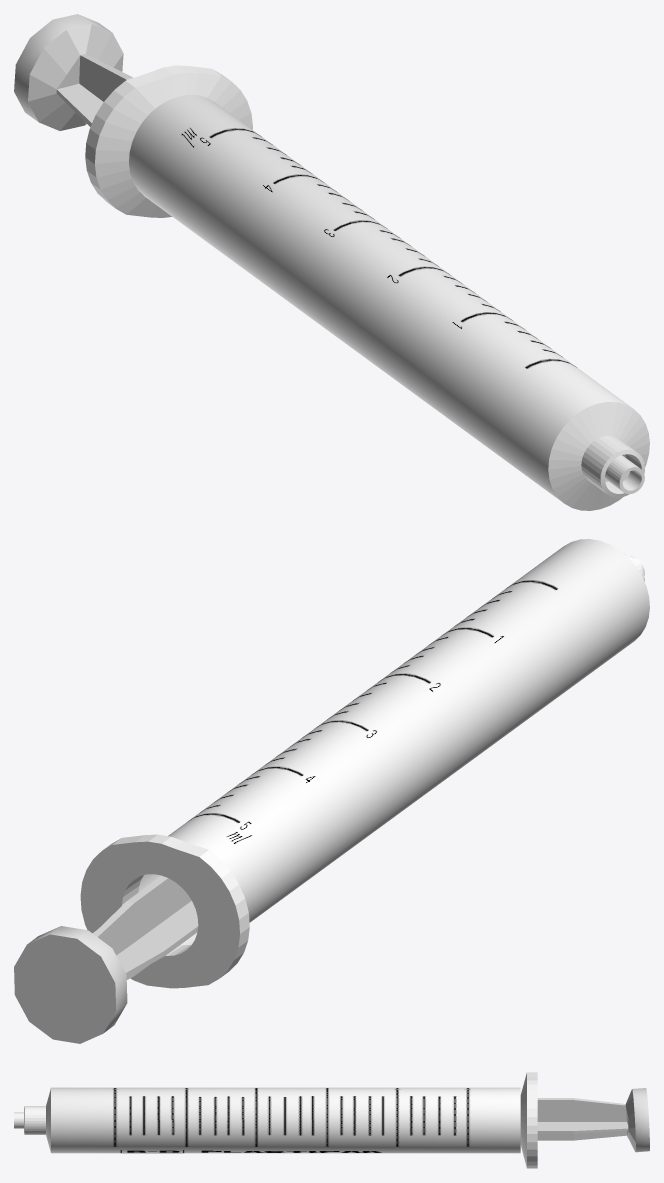
The model's file is 5ml syringe.fbx.
3 views of the same model, one above another, from view 1: azimuth 30°, elevation 25°; view 2: azimuth 150°, elevation 25°; view 3: azimuth 270°, elevation 25° (orthographic). The views are drawn at different scales.
Visible parts, largest first — view 1: Cylinder.006, Cylinder.003; view 2: Cylinder.006, Cylinder.003; view 3: Cylinder.006, Cylinder.003.
Boxes of the visible parts, left/top/right/bottom form: Cylinder.006: left=85, top=65, right=649, bottom=510; Cylinder.003: left=14, top=14, right=133, bottom=130; Cylinder.006: left=80, top=539, right=649, bottom=988; Cylinder.003: left=14, top=875, right=198, bottom=1043; Cylinder.006: left=14, top=1072, right=537, bottom=1168; Cylinder.003: left=537, top=1088, right=649, bottom=1152.
Bounding box in the file's own units: 2.18 × 1.89 × 13.54.
